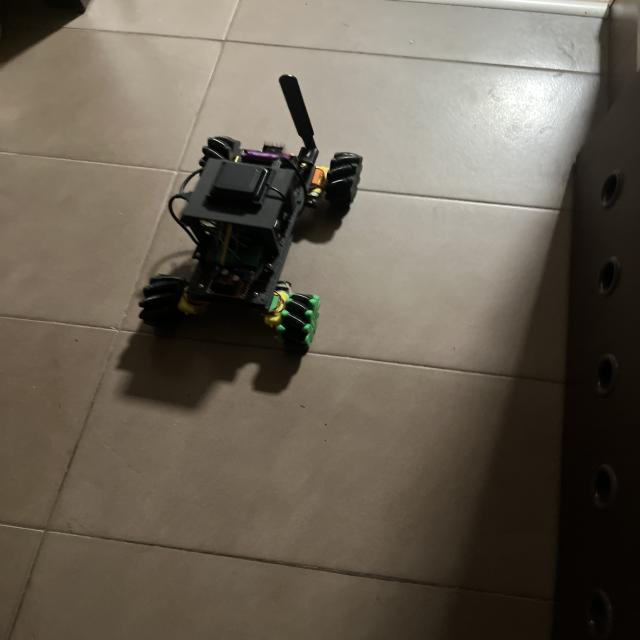robot: (139, 75, 362, 351)
